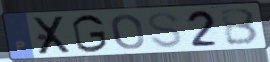2: (186, 8, 223, 50)
B: (218, 7, 261, 47)
G: (70, 13, 109, 54)
O: (109, 13, 147, 51)
S: (146, 11, 185, 50)
X: (31, 15, 74, 57)
